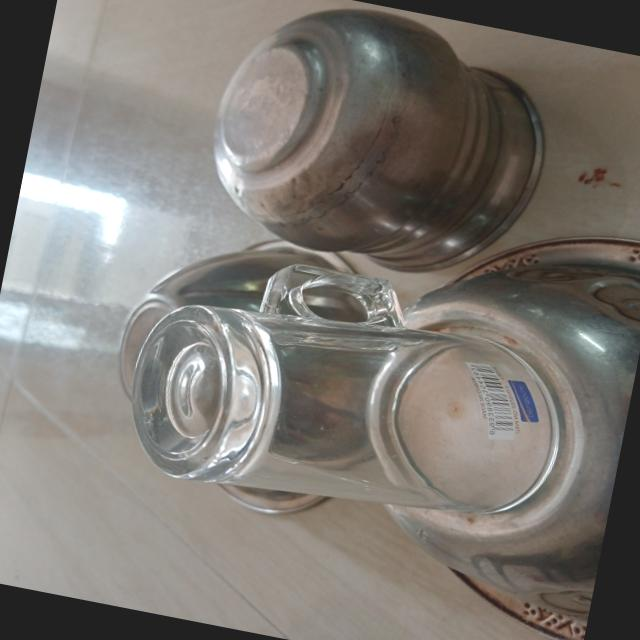glass-VX4N: (110, 234, 588, 552)
